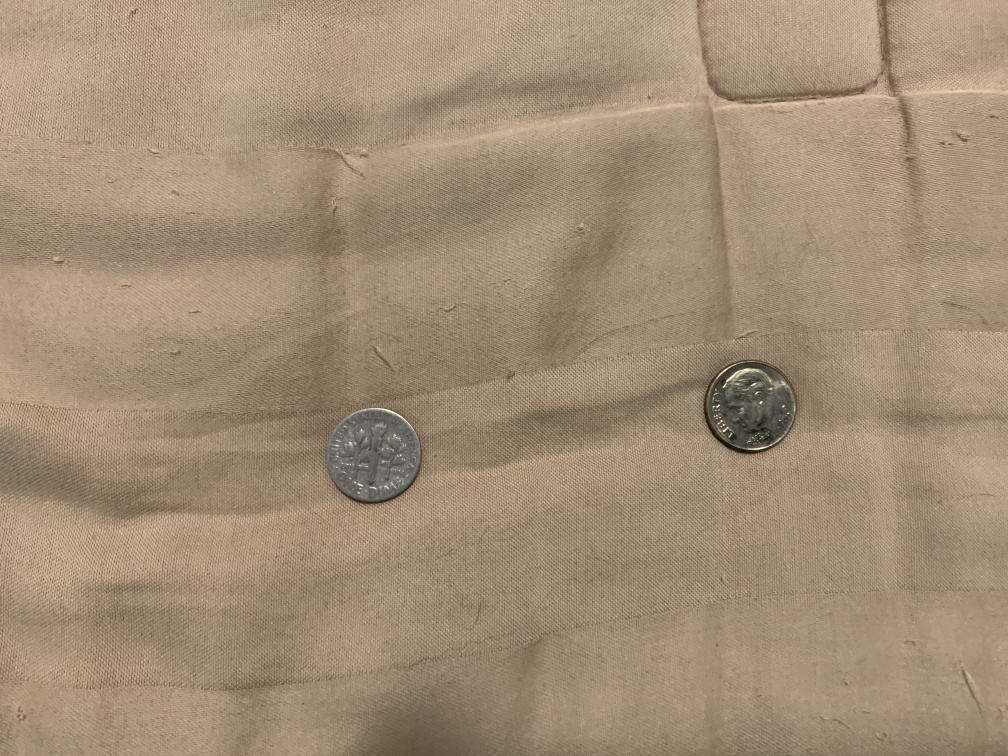dime: (322, 404, 425, 511), (700, 356, 802, 458)
